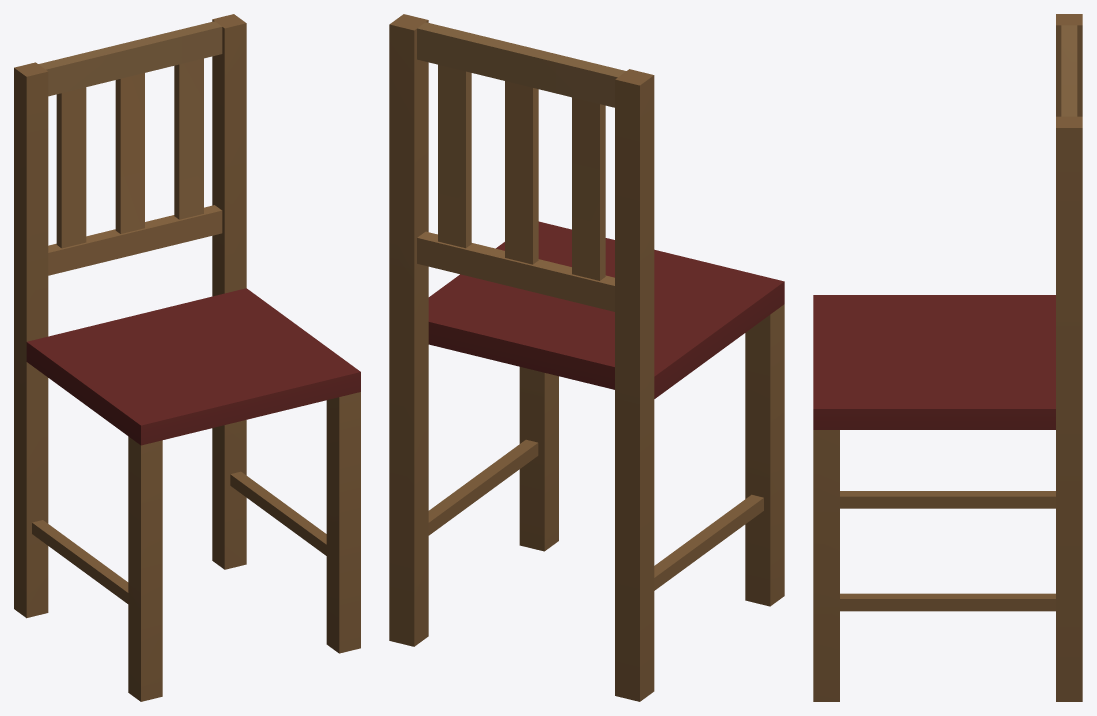
Rendered from seat.chair.cushion.glb.
3 views of the same model, side by side, from view 1: azimuth 30°, elevation 25°; view 2: azimuth 150°, elevation 25°; view 3: azimuth 270°, elevation 25° (orthographic). The views are drawn at different scales.
Visible parts, largest first — view 1: seat_chair_cushion; view 2: seat_chair_cushion; view 3: seat_chair_cushion.
Part boxes in pixels (left/top/right/bottom): seat_chair_cushion: left=14, top=14, right=360, bottom=701; seat_chair_cushion: left=389, top=14, right=784, bottom=701; seat_chair_cushion: left=813, top=14, right=1082, bottom=701.
Size of what is drawn, in the model's own units: 0.404 by 0.95 by 0.404.
